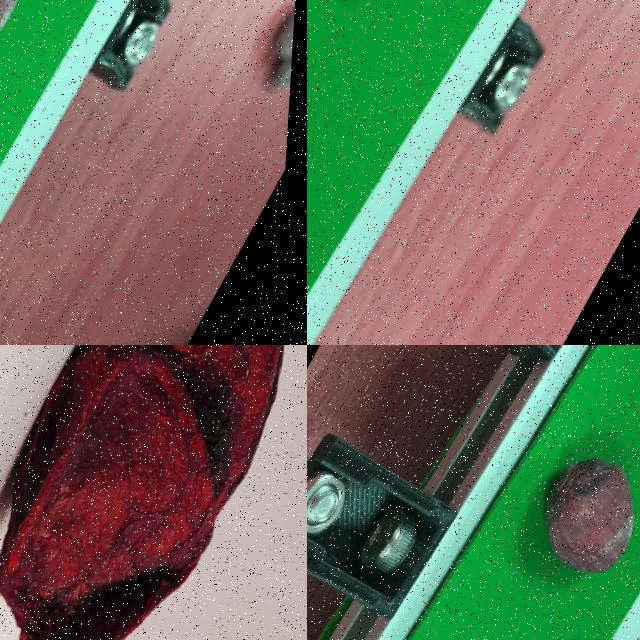Agglomerated_cocoabeans: (0, 345, 306, 639)
Fine_cocoabeans: (427, 349, 639, 639), (0, 0, 97, 197), (307, 0, 494, 73)
